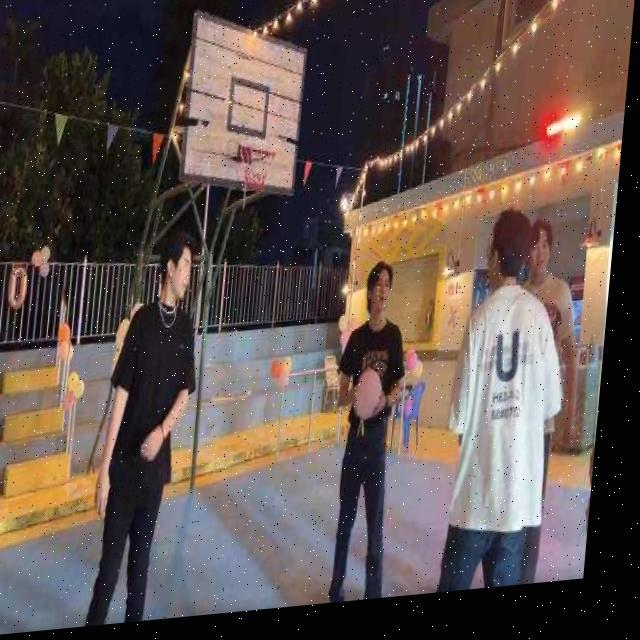basketball: (351, 364, 386, 420)
hoop: (235, 136, 278, 207)
